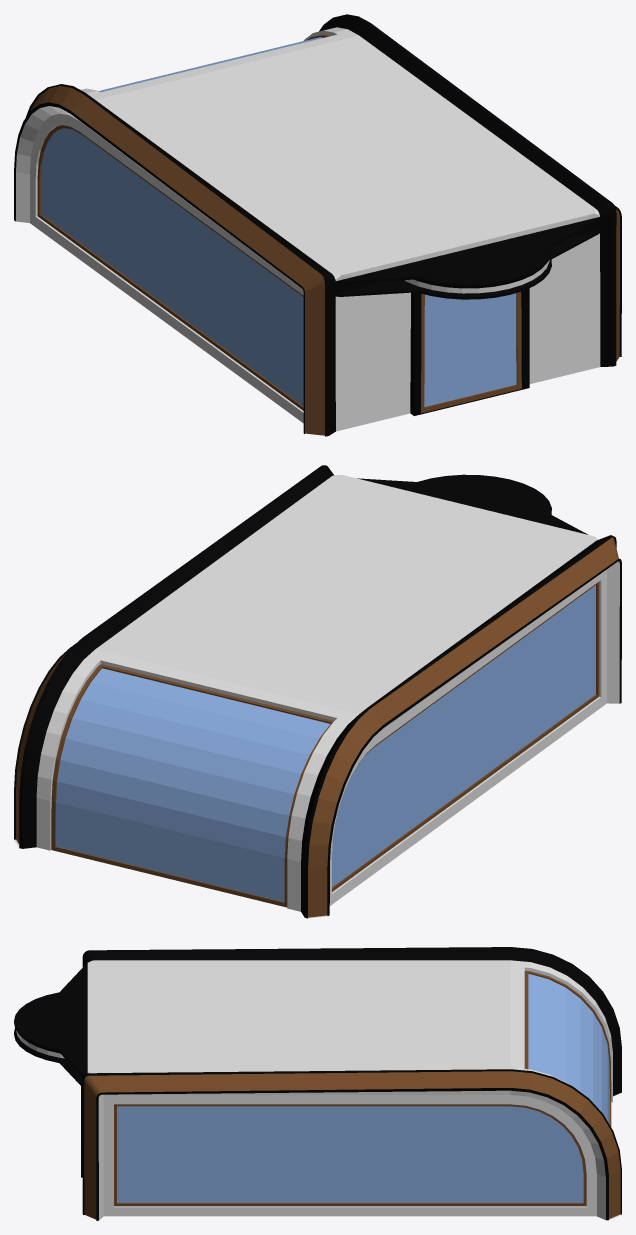
The model's file is TankstellenDiner_01.fbx.
3 views of the same model, one above another, from view 1: azimuth 30°, elevation 25°; view 2: azimuth 150°, elevation 25°; view 3: azimuth 270°, elevation 25° (orthographic). The views are drawn at different scales.
Parts seen in each view (by area): view 1: TankstellenDinerOutside, TankstellenDinerInside, TankstellenDinerDoor, Vordach; view 2: TankstellenDinerOutside, TankstellenDinerInside, Vordach; view 3: TankstellenDinerOutside, TankstellenDinerInside, Vordach.
Part boxes in pixels (x1,y1,x2,y2): TankstellenDinerOutside: [14, 14, 621, 436]; TankstellenDinerInside: [16, 28, 619, 434]; TankstellenDinerDoor: [421, 291, 521, 413]; Vordach: [335, 217, 600, 299]; TankstellenDinerOutside: [14, 465, 621, 918]; TankstellenDinerInside: [15, 475, 619, 918]; Vordach: [357, 474, 588, 534]; TankstellenDinerOutside: [81, 947, 621, 1220]; TankstellenDinerInside: [81, 960, 620, 1218]; Vordach: [14, 964, 87, 1087].
Size of the model in its own units: 429 by 212 by 810.
